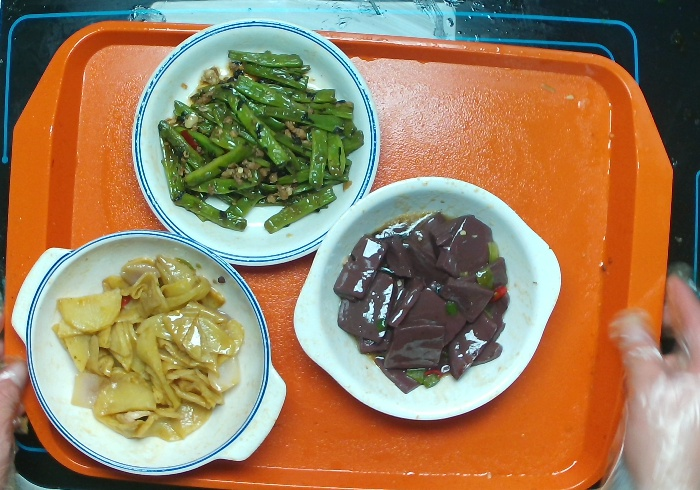HZYJPL-Dai_Er_Bai_Yuan_Wan: (292, 174, 562, 423)
HZYJPL-Lan_Bian_Dai_Er_Wan: (7, 229, 289, 477)
HZYJPL-Lan_Bian_Yuan_Die: (129, 18, 381, 268)
